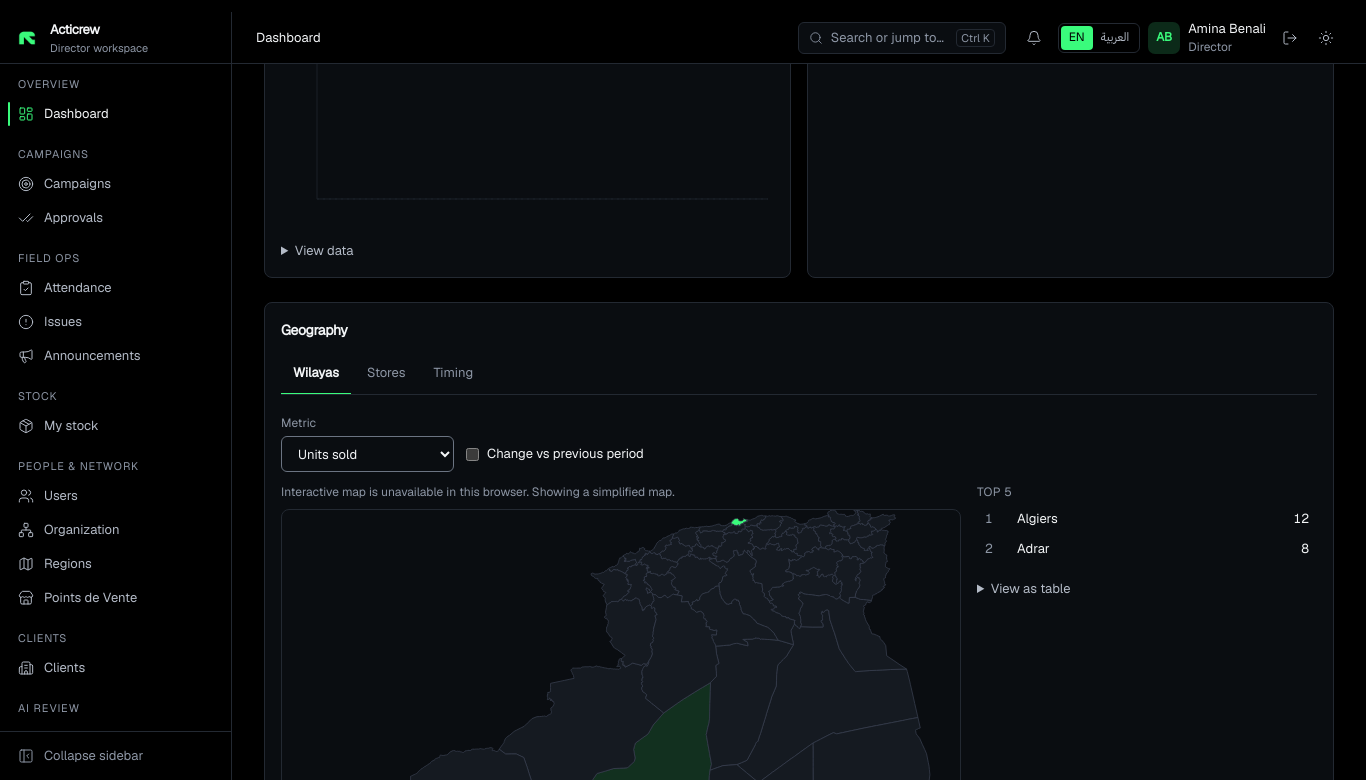
Test: dashboard geography › shows the legend with the period and switches metric and the change scale
(page scrolled)
Select "Conversion rate" in the dropdown labelled "Metric" at (368, 454), box left=281, top=436, right=454, bottom=472
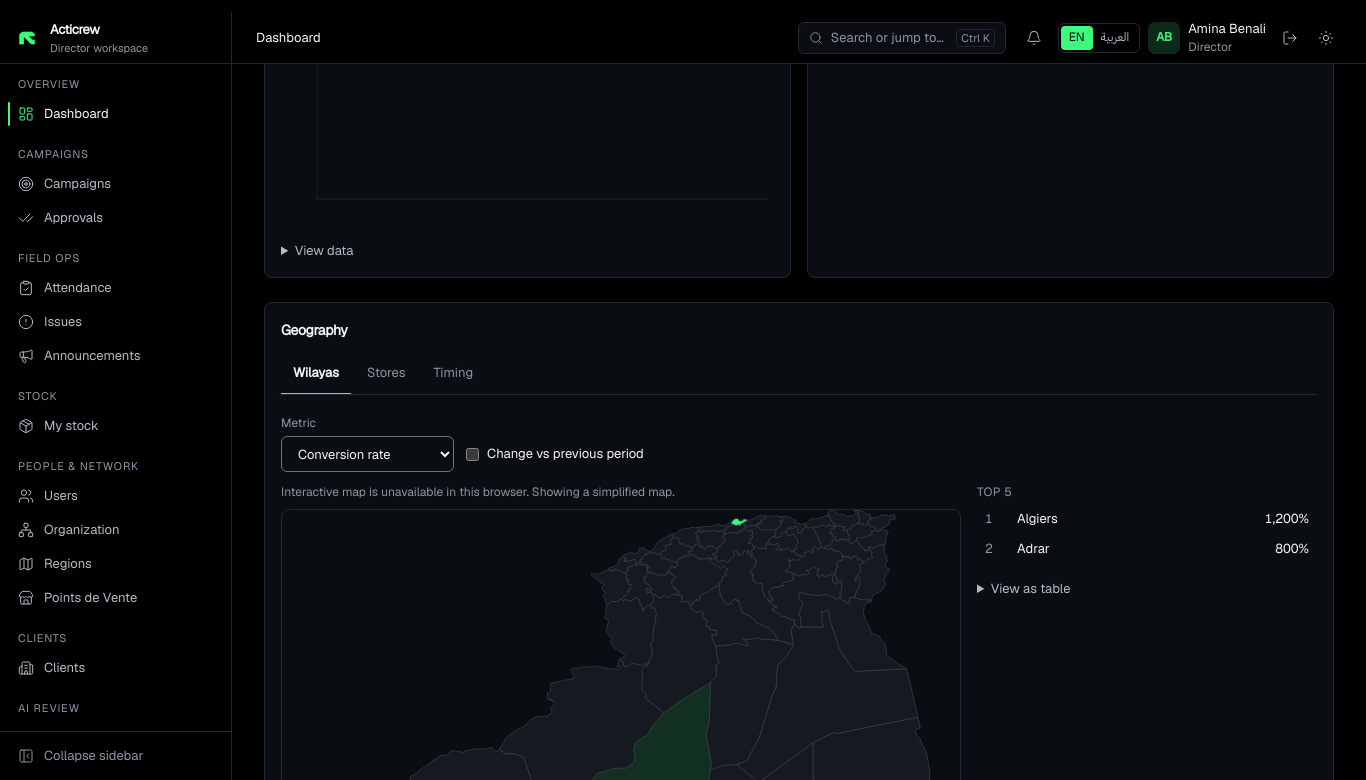
Click the checkbox labelled "Change vs previous period" at (472, 454), box left=466, top=448, right=479, bottom=460
(page scrolled)
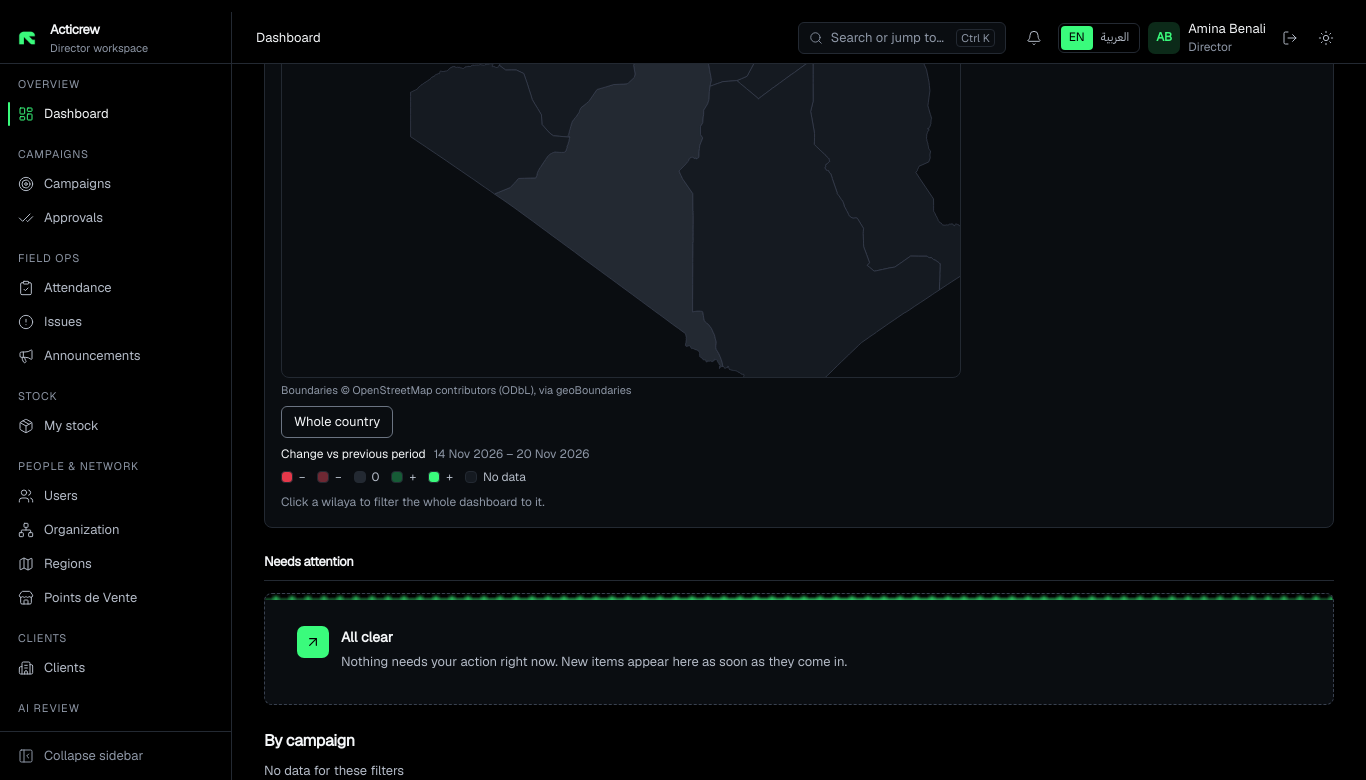
Check: the text "Change vs previous period" is shown, box left=281, top=446, right=426, bottom=462
